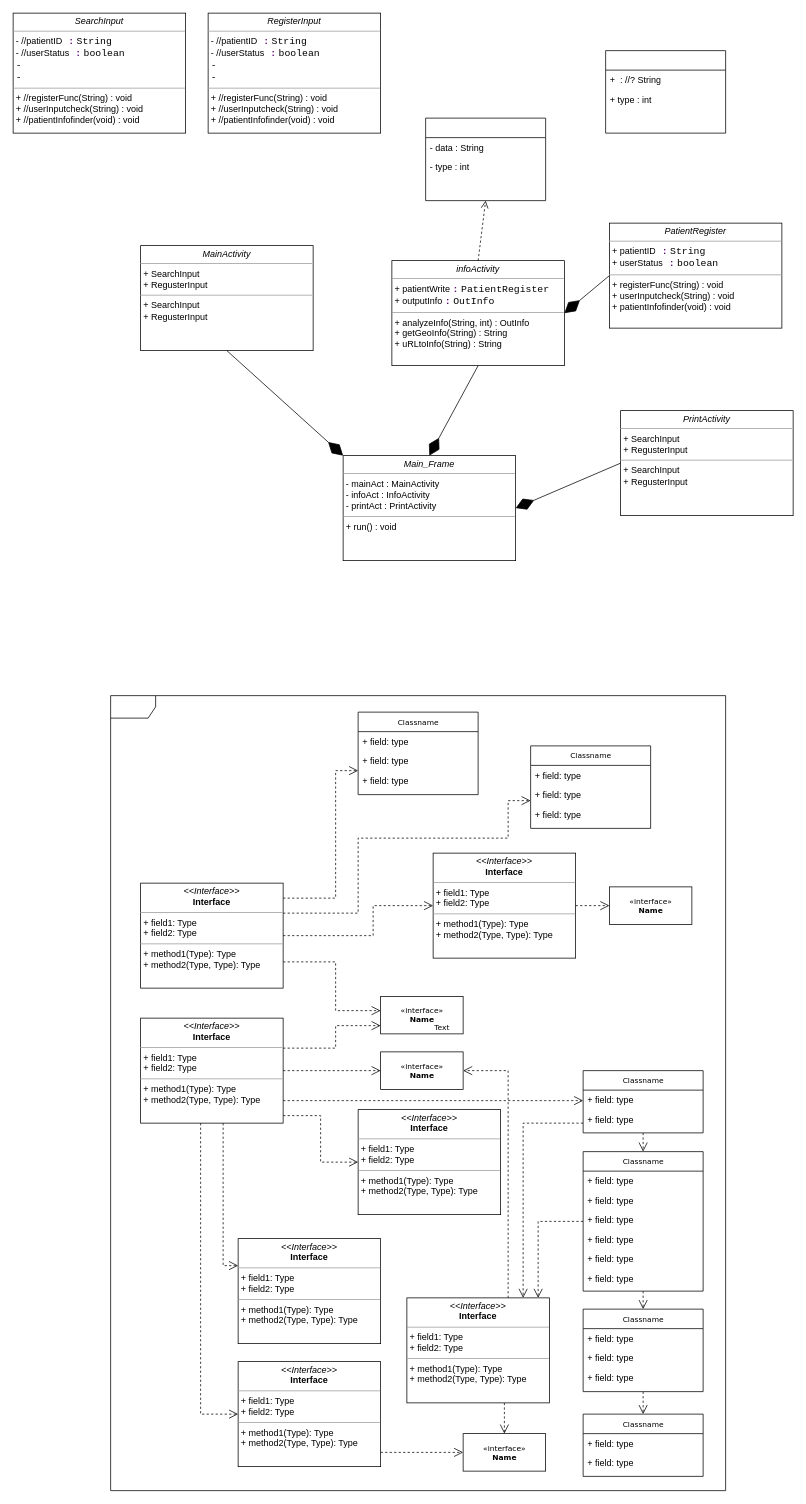
This 806x1504 diagram has some shape labels left out. The box of each missing label's shape, as (x1, y1, x2, y2) in pixels:
frame: (110, 695, 726, 1491)
OutInfo: (425, 117, 546, 201)
동선 데이터베이스: (605, 50, 726, 133)
